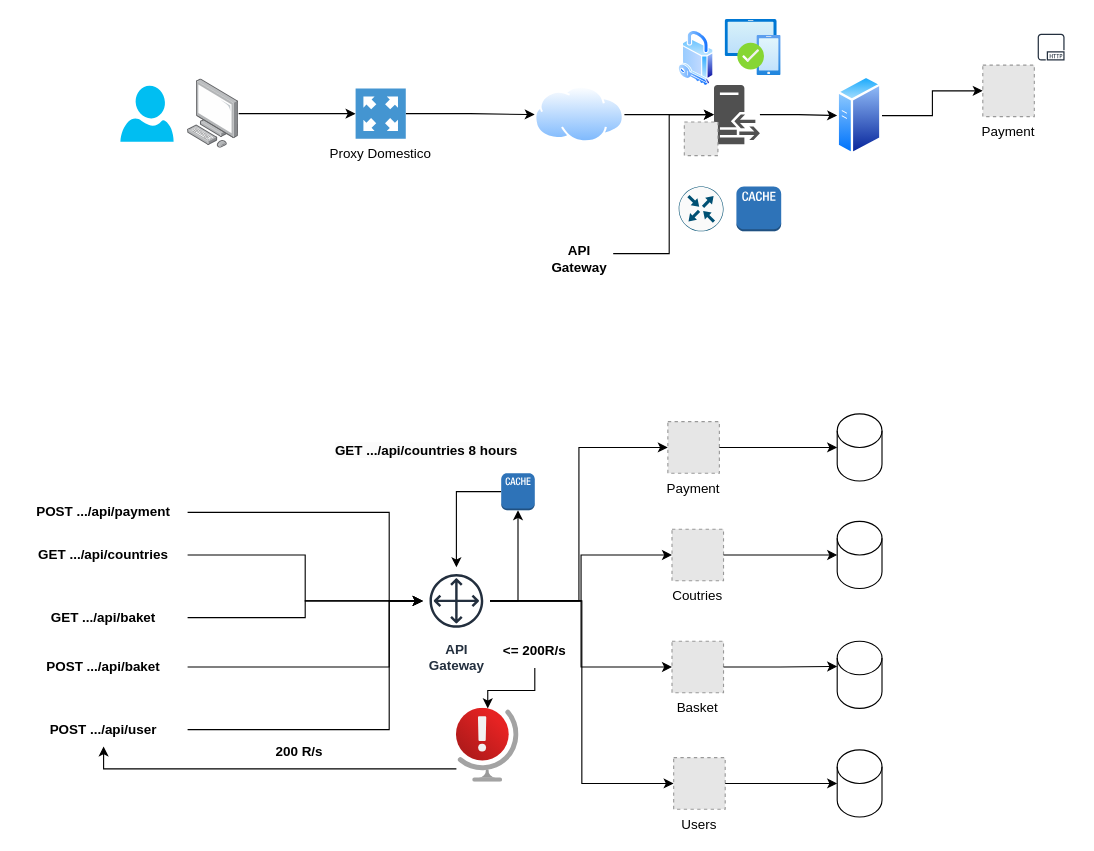
This 1094x851 diagram has some shape labels left out. Grey dashed boxes stand in for pictures. The centre of each missing label's shape, as x and y in pixels:
HTTP protocol: the point at 1050,46
Internet: the point at 579,114
Reverse Proxy: the point at 736,114
